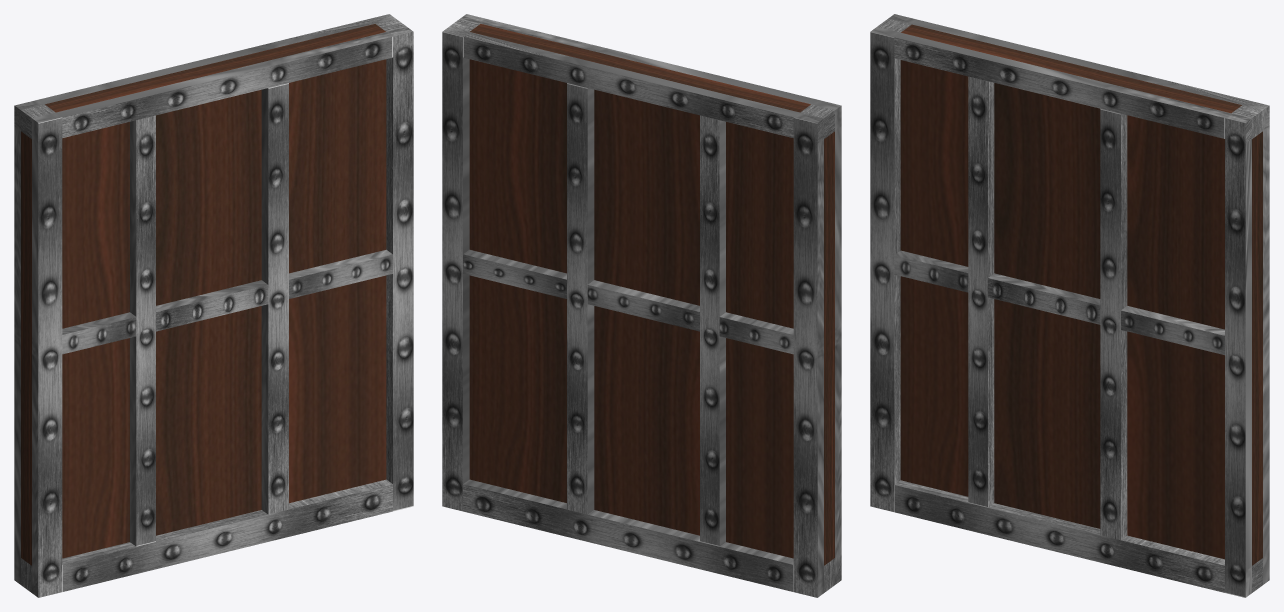
File: puerta2.obj
3 views of the same model, side by side, from view 1: azimuth 30°, elevation 25°; view 2: azimuth 150°, elevation 25°; view 3: azimuth 330°, elevation 25° (orthographic).
Parts seen in each view (by area): view 1: Cube; view 2: Cube; view 3: Cube.
Part boxes in pixels (box(x1,y1,x2,y2)): Cube: box(14, 14, 413, 597); Cube: box(442, 14, 841, 597); Cube: box(870, 14, 1269, 597).
Size of the model in its own units: 248 by 300 by 27.46.
1 material, 1 textured.
